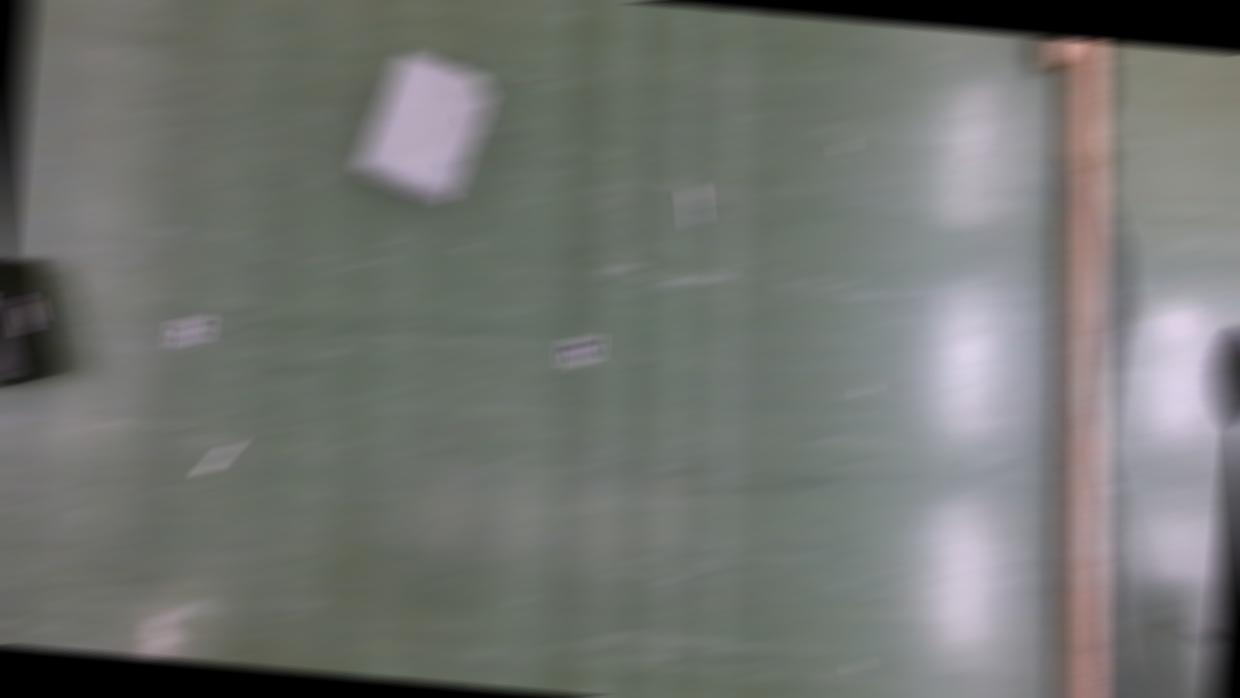probes: (201, 442, 235, 478), (682, 188, 708, 228)
rako: (352, 50, 497, 209), (0, 259, 73, 396)
